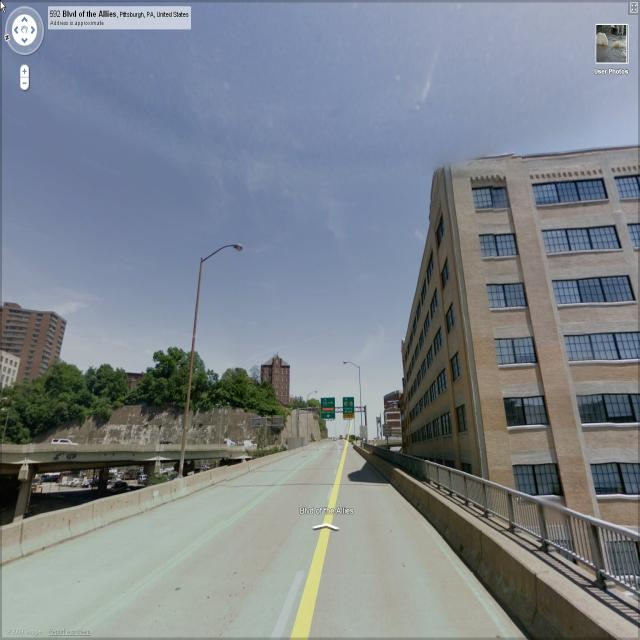b_1: (404, 162, 640, 549), (2, 300, 62, 375), (381, 388, 407, 456), (262, 353, 294, 405), (0, 349, 18, 374)
